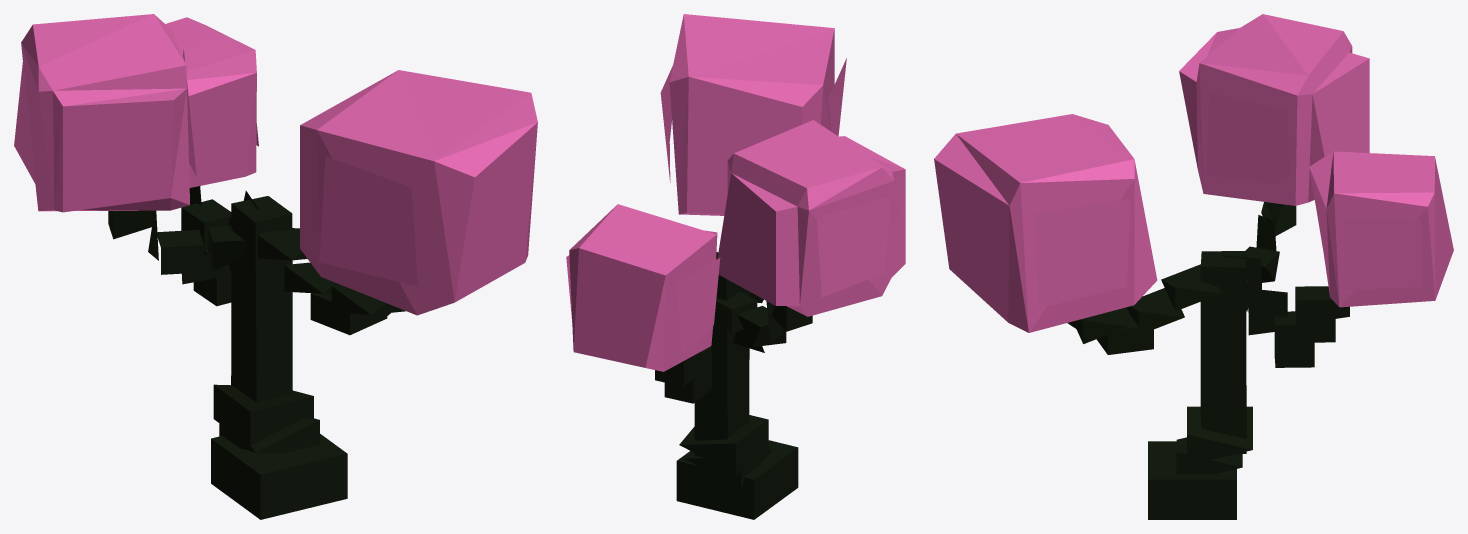
3 views of the same model, side by side, from view 1: azimuth 30°, elevation 25°; view 2: azimuth 150°, elevation 25°; view 3: azimuth 270°, elevation 25° (orthographic). The views are drawn at different scales.
Visible parts, largest first — view 1: 立方体.002, 立方体.019; view 2: 立方体.002, 立方体.019; view 3: 立方体.002, 立方体.019.
Boxes of the visible parts, bbox=[...] form: 立方体.002: bbox=[14, 14, 537, 315]; 立方体.019: bbox=[108, 186, 405, 519]; 立方体.002: bbox=[566, 14, 905, 371]; 立方体.019: bbox=[655, 252, 812, 519]; 立方体.002: bbox=[934, 14, 1453, 332]; 立方体.019: bbox=[1067, 202, 1349, 519].
Bounding box in the file's own units: 1173 × 1334 × 1576.
